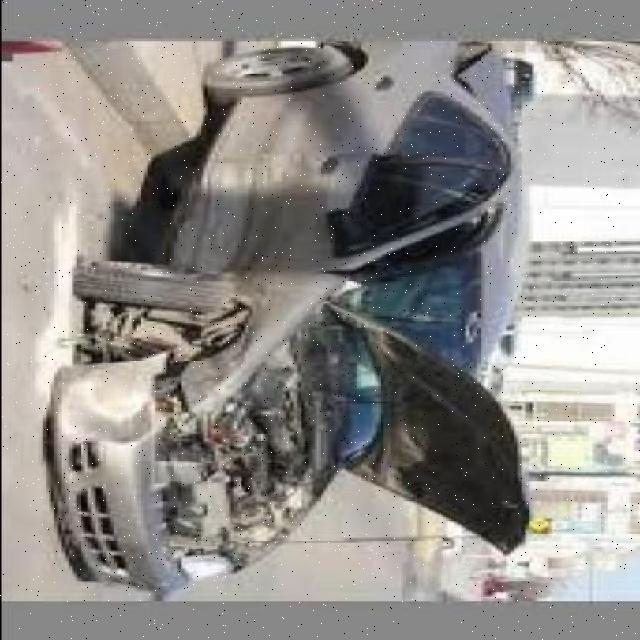damage: (55, 283, 332, 592), (173, 152, 341, 271)
